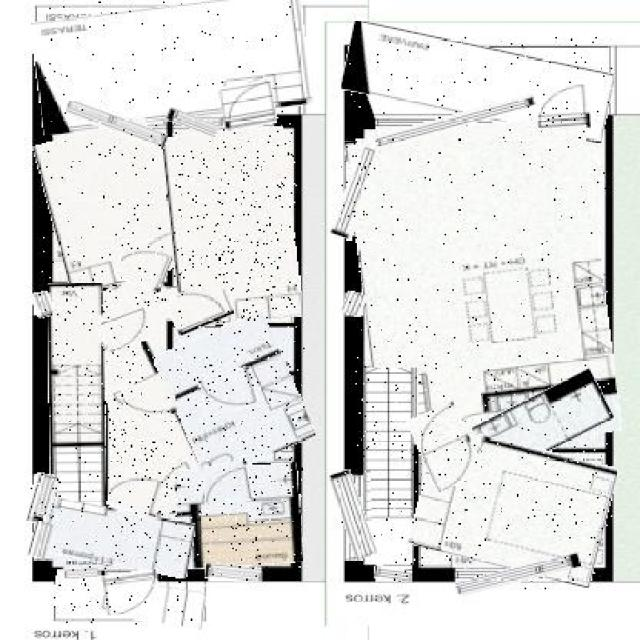door: (414, 406, 477, 489), (168, 283, 232, 331), (535, 80, 591, 132), (220, 83, 275, 129), (117, 243, 171, 289), (103, 571, 160, 614), (121, 380, 176, 423), (201, 370, 257, 412), (109, 471, 163, 514), (101, 311, 156, 349), (203, 462, 252, 503)
window: (375, 105, 537, 138), (455, 560, 580, 589), (338, 146, 376, 240), (65, 108, 169, 142), (337, 471, 371, 560), (26, 474, 56, 523), (204, 564, 262, 582), (168, 112, 220, 132), (31, 522, 54, 558), (343, 292, 365, 317), (374, 568, 412, 582), (32, 292, 52, 318), (64, 570, 98, 578)
zone: (354, 120, 612, 452), (33, 0, 310, 128), (414, 436, 612, 578), (166, 129, 297, 326), (343, 34, 612, 129), (88, 284, 198, 514), (41, 123, 176, 289), (164, 318, 304, 474), (49, 283, 105, 523), (176, 464, 302, 568), (474, 382, 612, 464), (363, 370, 419, 572), (44, 505, 194, 572), (54, 576, 206, 624)
